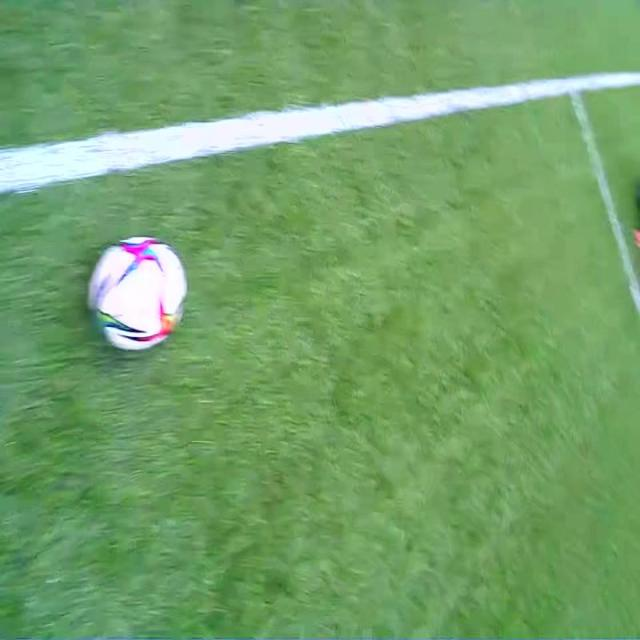ball: (89, 234, 187, 348)
